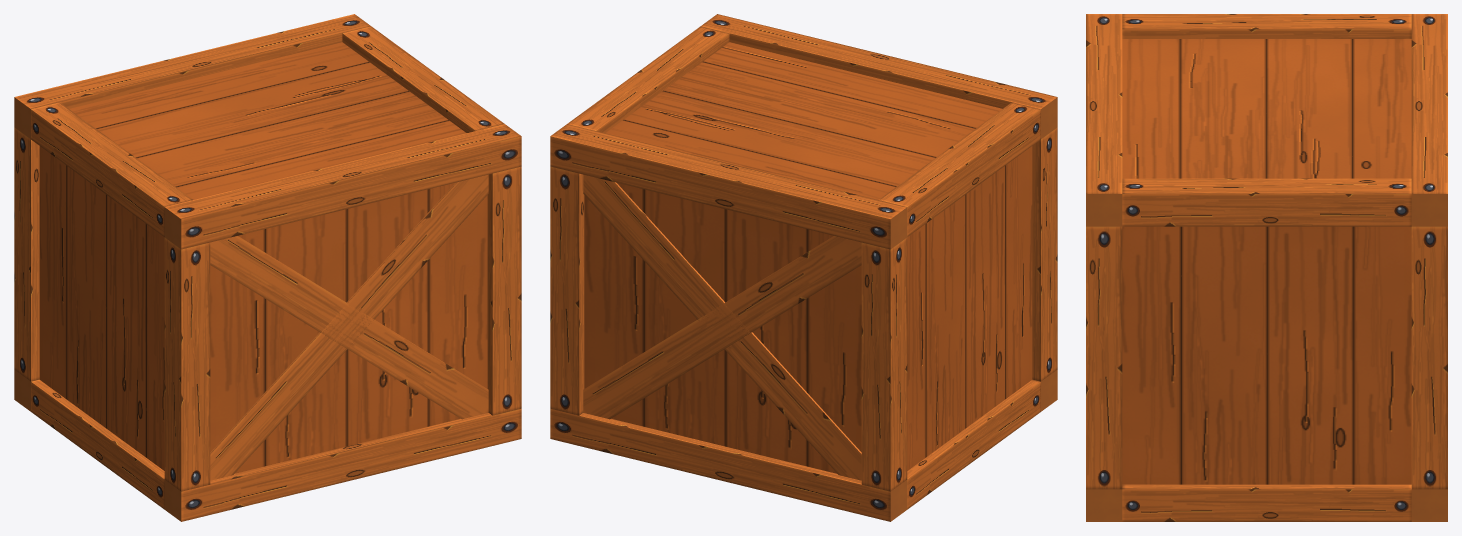
File: Crate_Big.fbx
The picture shows the model from 3 angles, left to right: view 1: azimuth 30°, elevation 25°; view 2: azimuth 150°, elevation 25°; view 3: azimuth 270°, elevation 25°; orthographic projection. The views are drawn at different scales.
Visible parts, largest first — view 1: Crate_Big_Body; view 2: Crate_Big_Body; view 3: Crate_Big_Body.
Boxes of the visible parts, bbox=[...] form: Crate_Big_Body: bbox=[14, 14, 521, 521]; Crate_Big_Body: bbox=[550, 14, 1057, 521]; Crate_Big_Body: bbox=[1086, 14, 1447, 521].
Size of the model in its own units: 1 by 0.85 by 0.85.
1 material, 1 textured.
